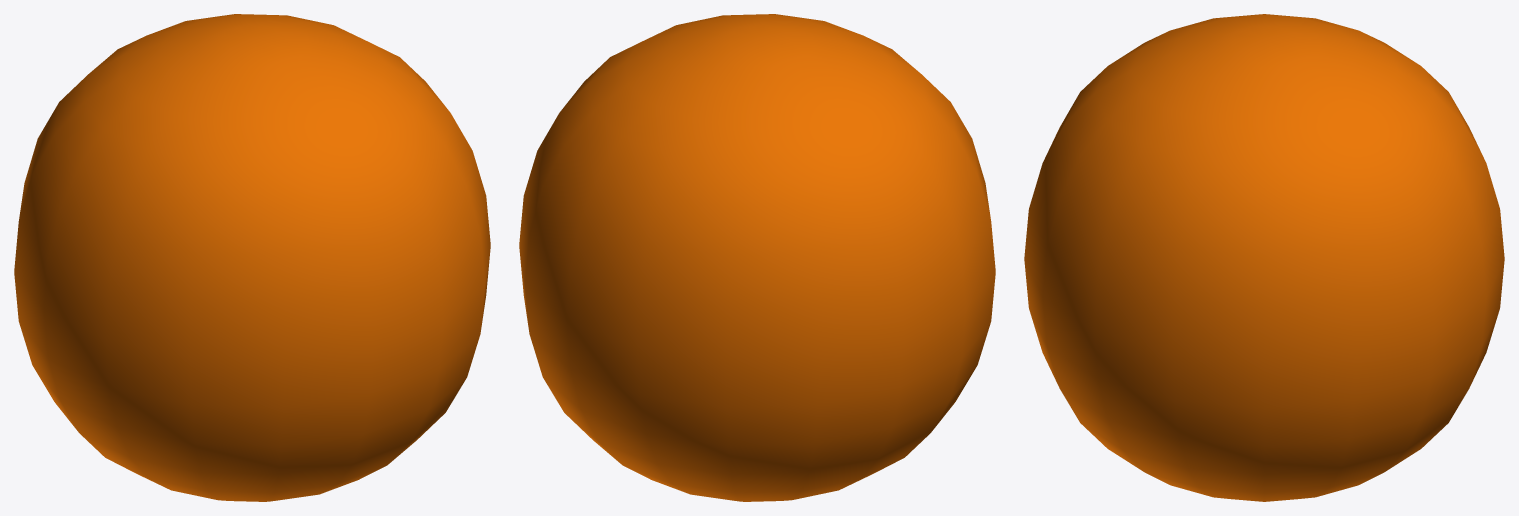
The model's file is Ice Cream Brown.fbx.
3 renders of one model, left to right at view 1: azimuth 30°, elevation 25°; view 2: azimuth 150°, elevation 25°; view 3: azimuth 270°, elevation 25°, orthographic.
Parts seen in each view (by area): view 1: Ice Cream Brown; view 2: Ice Cream Brown; view 3: Ice Cream Brown.
Part boxes in pixels (<box>): Ice Cream Brown: <box>14,14,490,501</box>; Ice Cream Brown: <box>519,14,995,501</box>; Ice Cream Brown: <box>1024,14,1504,501</box>.
Bounding box in the file's own units: 0.4671 × 0.4738 × 0.4671.
